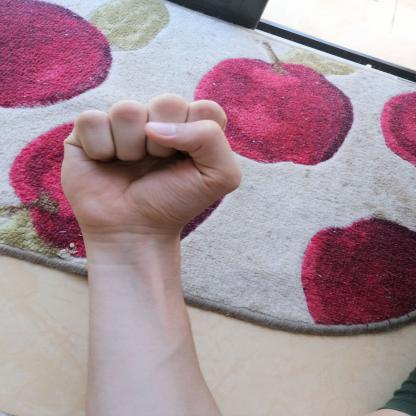SAD: (41, 84, 256, 246)
